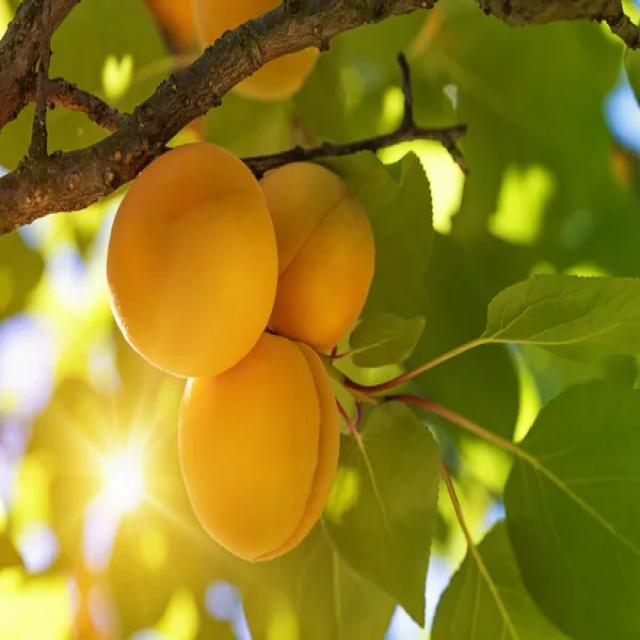kayisi: (98, 153, 376, 557)
kayisi-yapragi: (395, 31, 640, 633)
